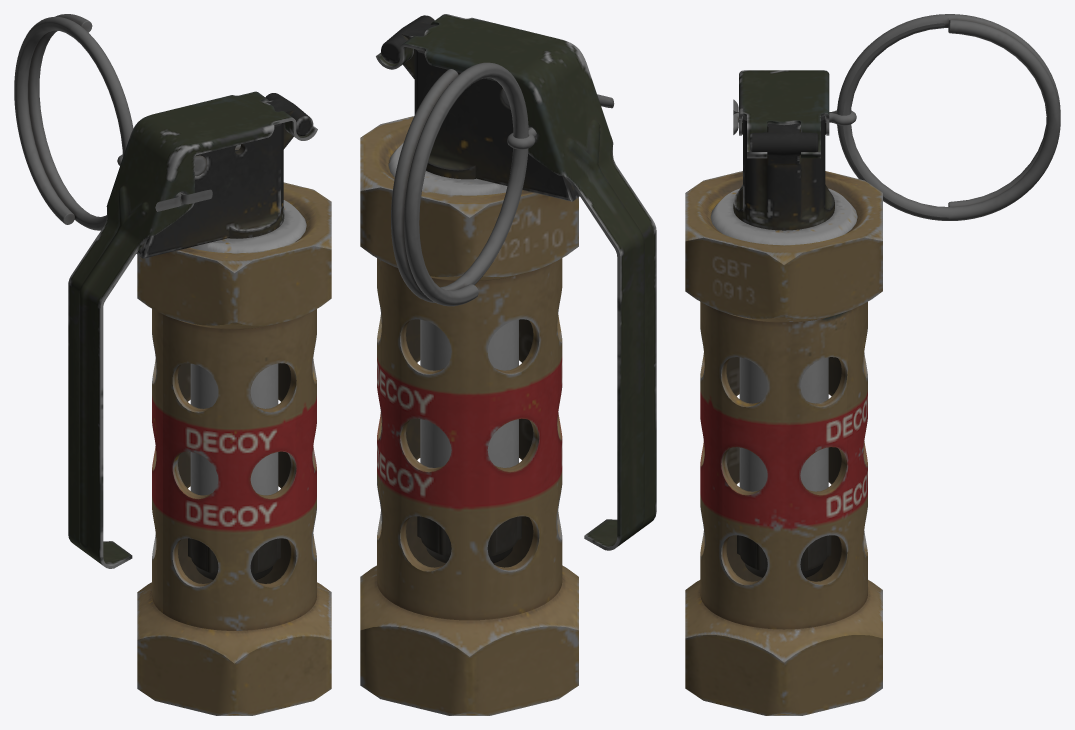
Rendered from weapon_gren_decoy.glb.
3 renders of one model, left to right at view 1: azimuth 30°, elevation 25°; view 2: azimuth 150°, elevation 25°; view 3: azimuth 270°, elevation 25°, orthographic. The views are drawn at different scales.
Visible parts, largest first — view 1: weapons/models/grenade/decoy/weapon_decoy.vmdl_c.body; view 2: weapons/models/grenade/decoy/weapon_decoy.vmdl_c.body; view 3: weapons/models/grenade/decoy/weapon_decoy.vmdl_c.body.
Boxes of the visible parts, <box> form: weapons/models/grenade/decoy/weapon_decoy.vmdl_c.body: <box>14,14,331,715</box>; weapons/models/grenade/decoy/weapon_decoy.vmdl_c.body: <box>360,14,656,715</box>; weapons/models/grenade/decoy/weapon_decoy.vmdl_c.body: <box>685,14,1060,715</box>.
Bounding box in the file's own units: 0.0657 × 0.1518 × 0.0835.
Materials: 1 (1 with a texture image).
